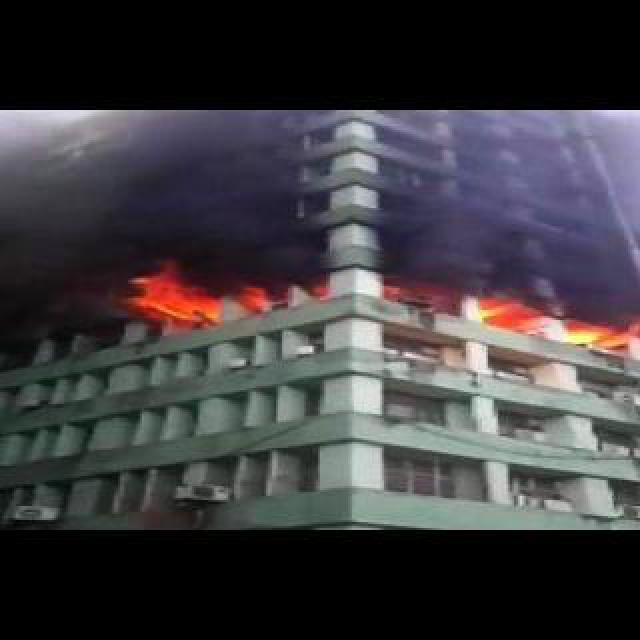Fire: (116, 258, 328, 322), (462, 292, 630, 354)
Smoke: (390, 156, 638, 312)
